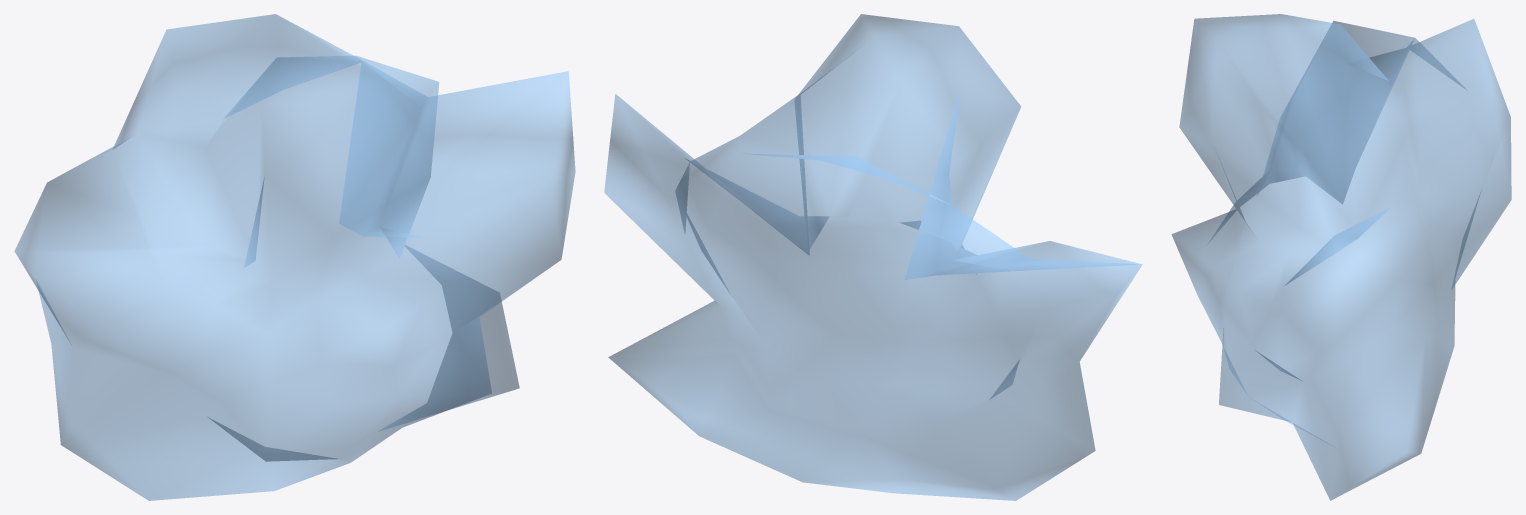
The model's file is mplasmaspit_shield.gltf.
3 views of the same model, side by side, from view 1: azimuth 30°, elevation 25°; view 2: azimuth 150°, elevation 25°; view 3: azimuth 270°, elevation 25° (orthographic). The views are drawn at different scales.
Visible parts, largest first — view 1: mplasmaspit.shield; view 2: mplasmaspit.shield; view 3: mplasmaspit.shield.
Boxes of the visible parts, x1,y1,x2,y2 form: mplasmaspit.shield: (14, 14, 575, 500); mplasmaspit.shield: (604, 14, 1142, 500); mplasmaspit.shield: (1171, 14, 1511, 500).
Bounding box in the file's own units: 25.44 × 19.18 × 13.96.
